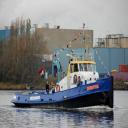tugboat: (11, 23, 116, 113)
